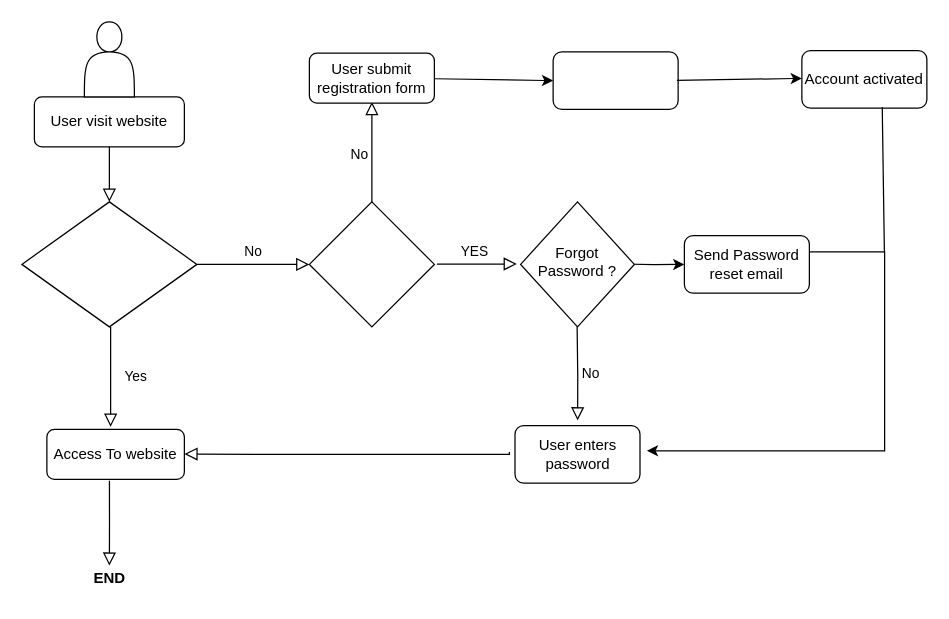
Image size: 949x619. Some labels were removed from this diagram. The shapes that lost their labels are listed below. From the top down, each one's centre as x and y in pixels, then its label:
point 615,80: Account confirmed via mail
point 109,264: Already logged in ?
point 371,264: Is user Registered ?
